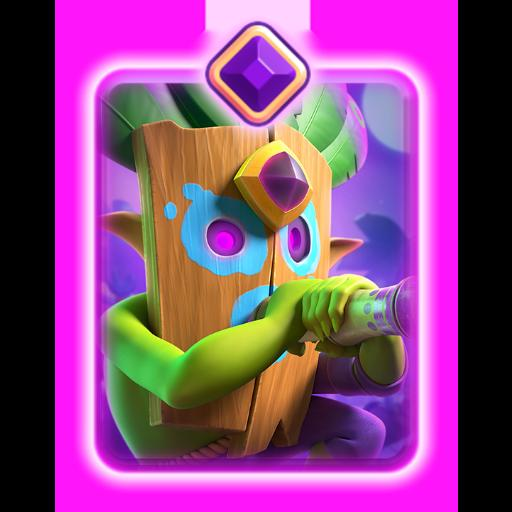dart-goblin-evo: (102, 78, 406, 462)
